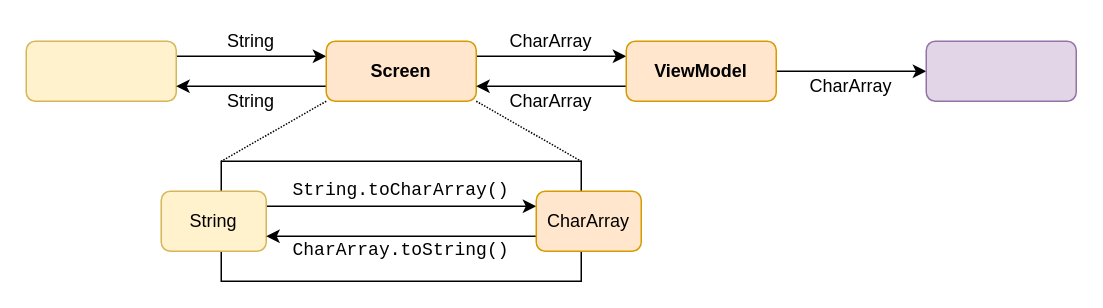
Some shapes in this 1103 by 308 pixel diagram are drawn without their labels. The centre of each missing label's shape, as x and y in pixels:
"«framework» TextField" goes at (100,70).
"«module» :core:security" goes at (1000,70).
